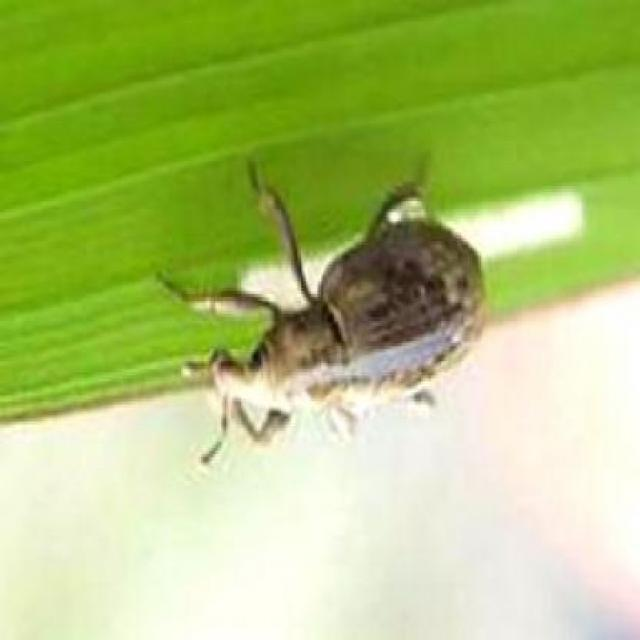rice-bug: (169, 178, 489, 456)
